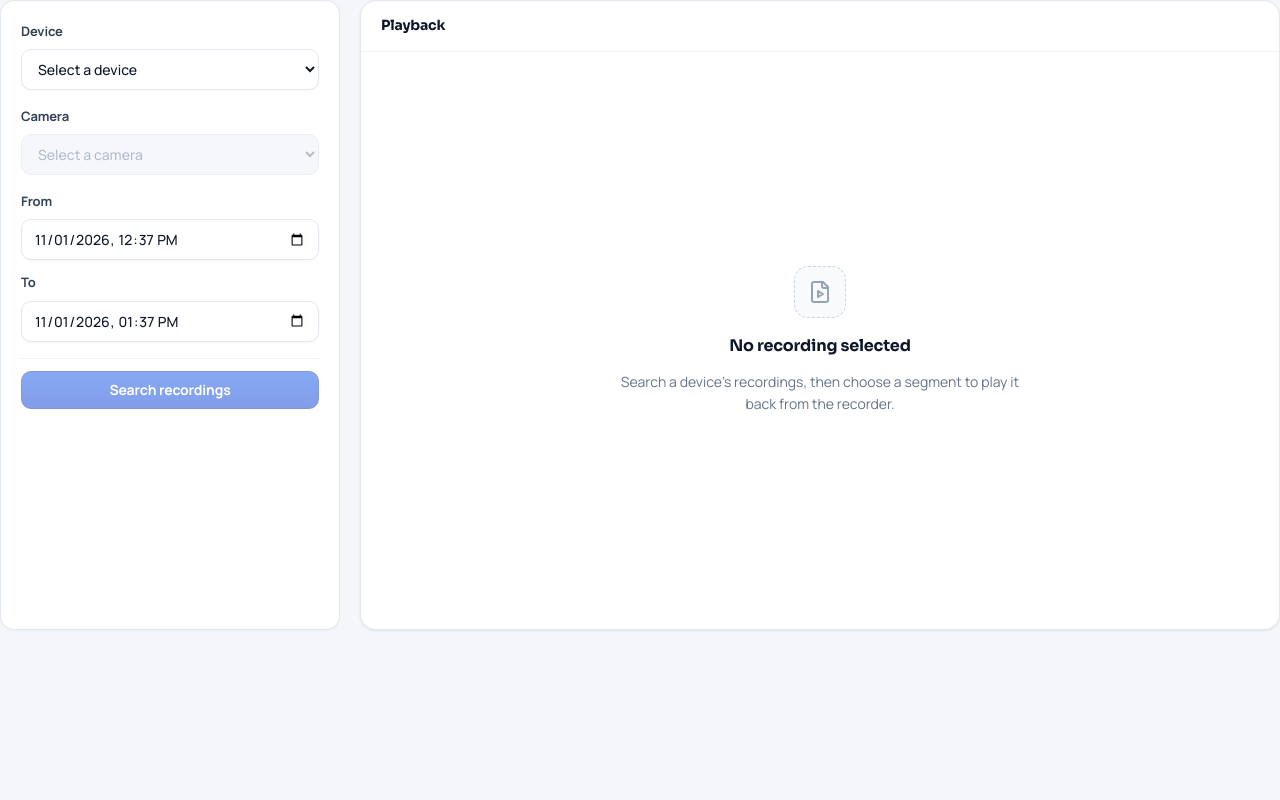
Test: RecordingsPage (ADR-0044) › reports an empty answer as the device's own answer, not as still waiting
The image size is (1280, 800).
Select "TERM12345678 — LSZ LSZ-C5804DG-Q-F" in the dropdown labelled "Device": (170, 70) x1=21 y1=49 x2=319 y2=90
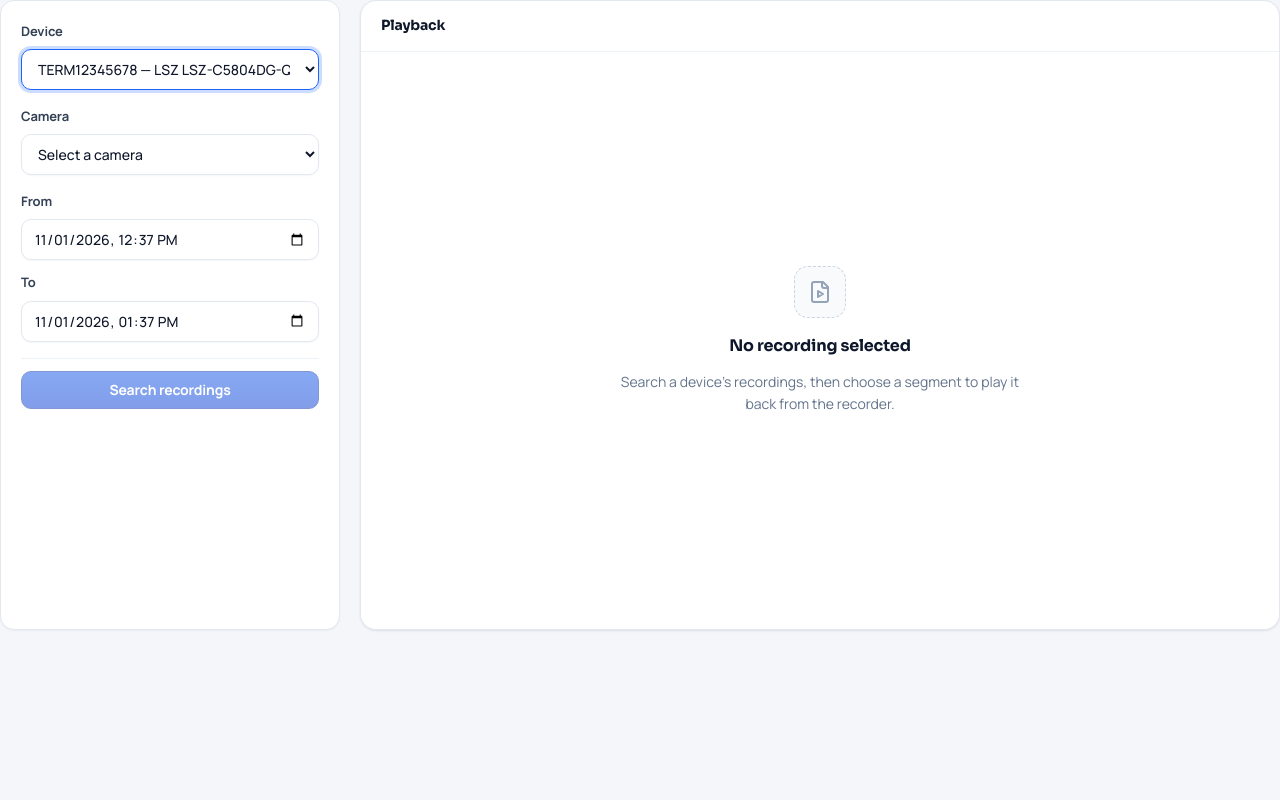
Select "Front (road_facing)" in the dropdown labelled "Camera": (170, 155) x1=21 y1=134 x2=319 y2=175
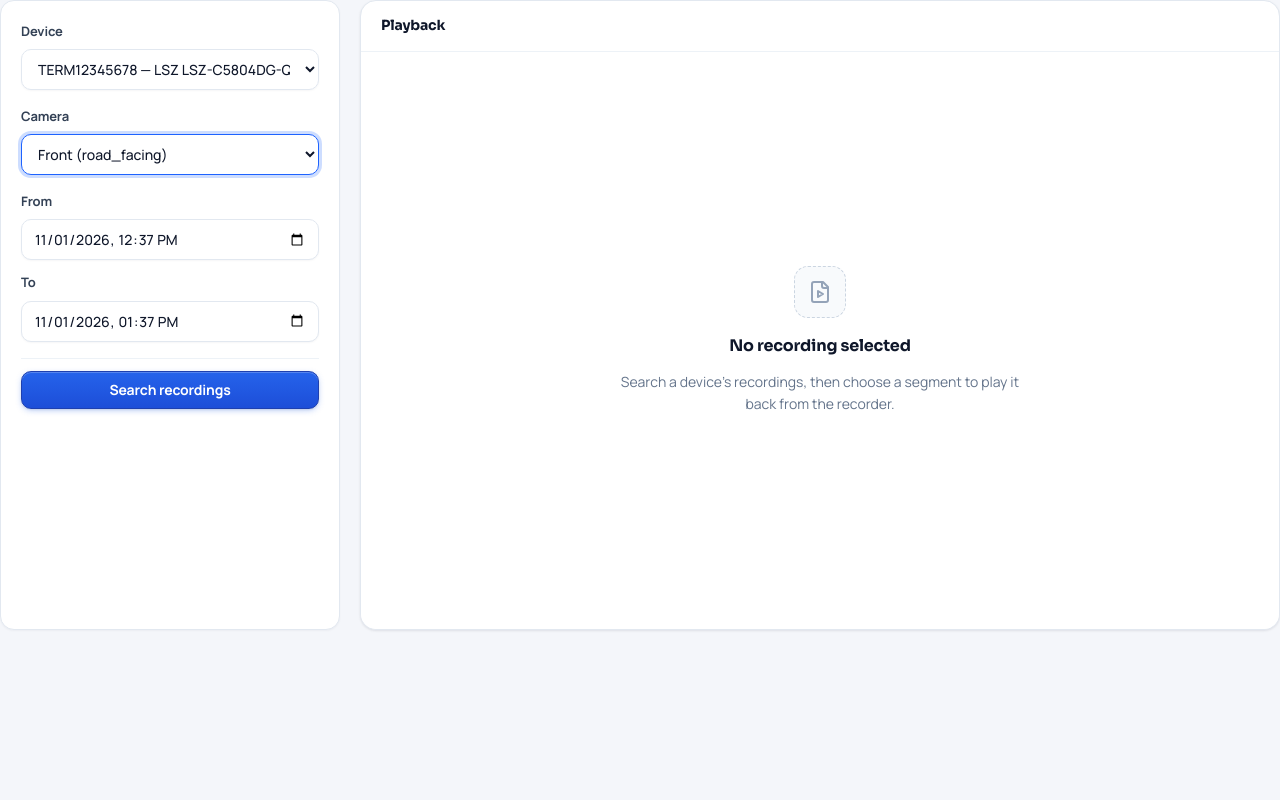
Click the button "Search recordings": click(170, 390) x1=21 y1=371 x2=319 y2=409
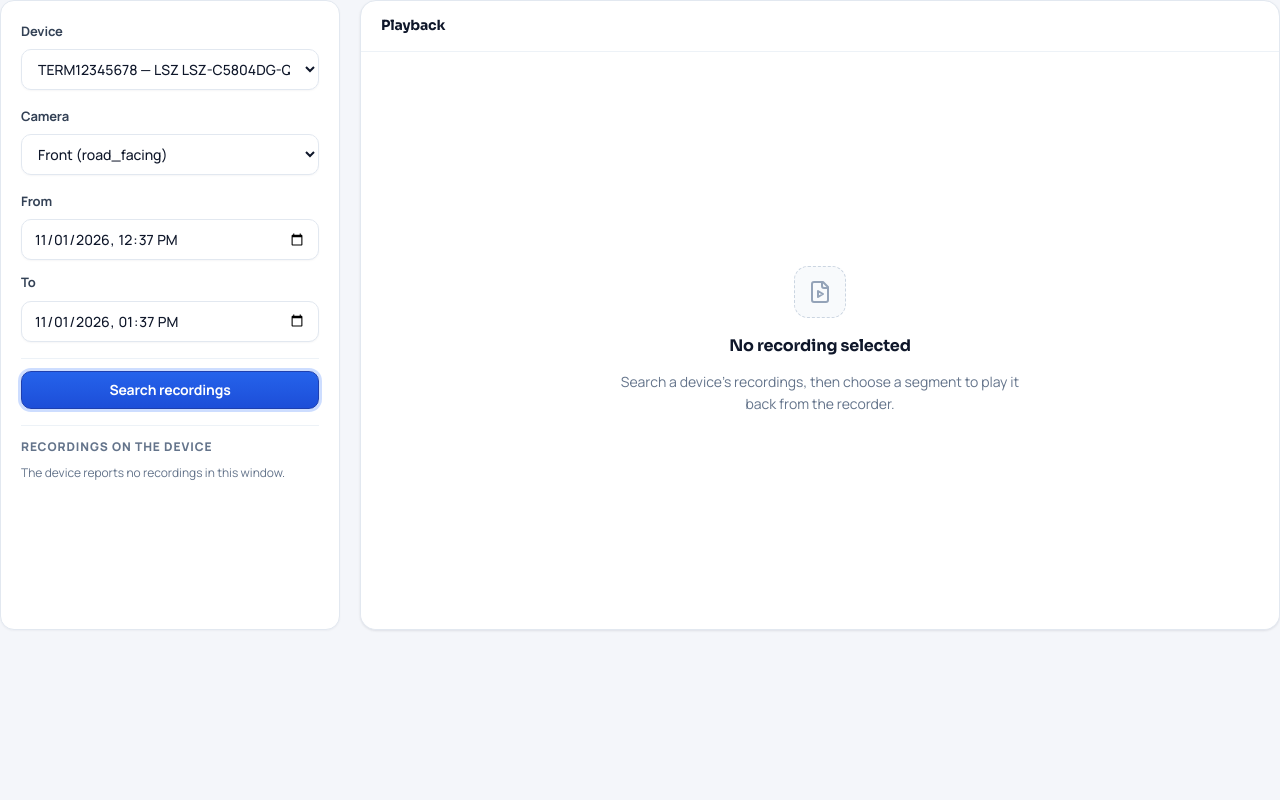
Result: the text "The device reports no recordings in this window." is shown at x1=21 y1=464 x2=319 y2=483
